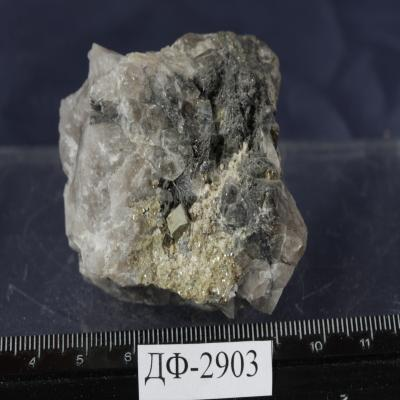mineralogy: (58, 31, 308, 320)
